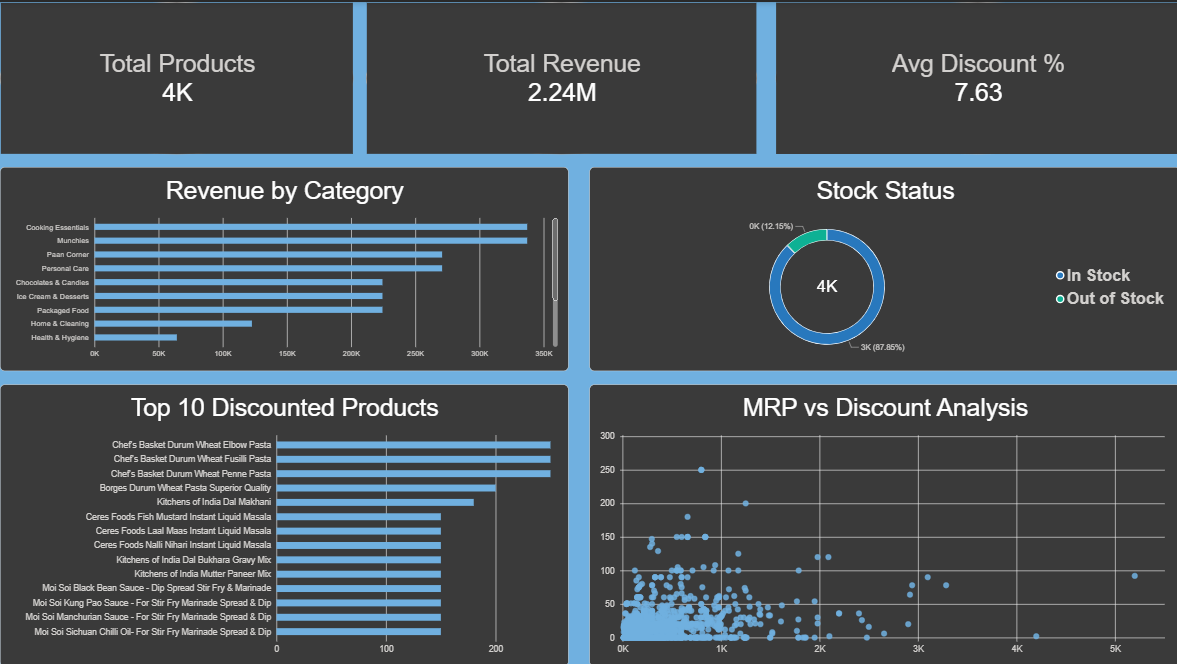

The page's visual inventory and layout, read from the dashboard file:
{"tool":"powerbi","page":{"name":"Zepto Dashboard","canvas":[1920,1080],"ordinal":0},"visuals":[{"type":"cardVisual","title":"Total Products","fields":{"Data":["zepto_project zepto.Total Products"]},"box":[0,0,575.8,248.9],"z":0},{"type":"cardVisual","fields":{"Data":["zepto_project zepto.Total Revenue"]},"box":[595.3,0,636.8,248.9],"z":1000},{"type":"cardVisual","fields":{"Data":["zepto_project zepto.Avg Discount %"]},"box":[1261.4,0,658.8,248.9],"z":2000},{"type":"clusteredBarChart","title":"Revenue by Category","fields":{"Category":["zepto_project zepto.Category"],"Y":["zepto_project zepto.Total Revenue"]},"box":[0,268.4,924.7,331.8],"z":3000},{"type":"donutChart","title":"Stock Status","fields":{"Category":["zepto_project zepto.outOfStock"],"Y":["zepto_project zepto.Total Products"]},"box":[958.8,268.4,961.3,331.8],"z":4000},{"type":"clusteredBarChart","title":"Top 10 Discounted Products","fields":{"Category":["zepto_project zepto.name"],"Y":["Sum(zepto_project zepto.discountPercent)"]},"box":[0,622.2,924.7,458.7],"z":5000},{"type":"scatterChart","title":"MRP vs Discount Analysis","fields":{"Category":["zepto_project zepto.name"],"X":["Sum(zepto_project zepto.mrp)"],"Y":["Sum(zepto_project zepto.discountPercent)"]},"box":[958.8,622.2,961.3,458.7],"z":6000}]}

Visuals, with their boxes in screenshot pixels (x1, y1, x2, y2), scaled from the page's 1920x1080 canvas onto the 1177x664 screenshot:
"Total Products" cardVisual: box(0, 0, 353, 153)
cardVisual - zepto_project zepto.Total Revenue: box(365, 0, 755, 153)
cardVisual - zepto_project zepto.Avg Discount %: box(773, 0, 1176, 153)
"Revenue by Category" clusteredBarChart: box(0, 165, 567, 369)
"Stock Status" donutChart: box(588, 165, 1176, 369)
"Top 10 Discounted Products" clusteredBarChart: box(0, 383, 567, 663)
"MRP vs Discount Analysis" scatterChart: box(588, 383, 1176, 663)
